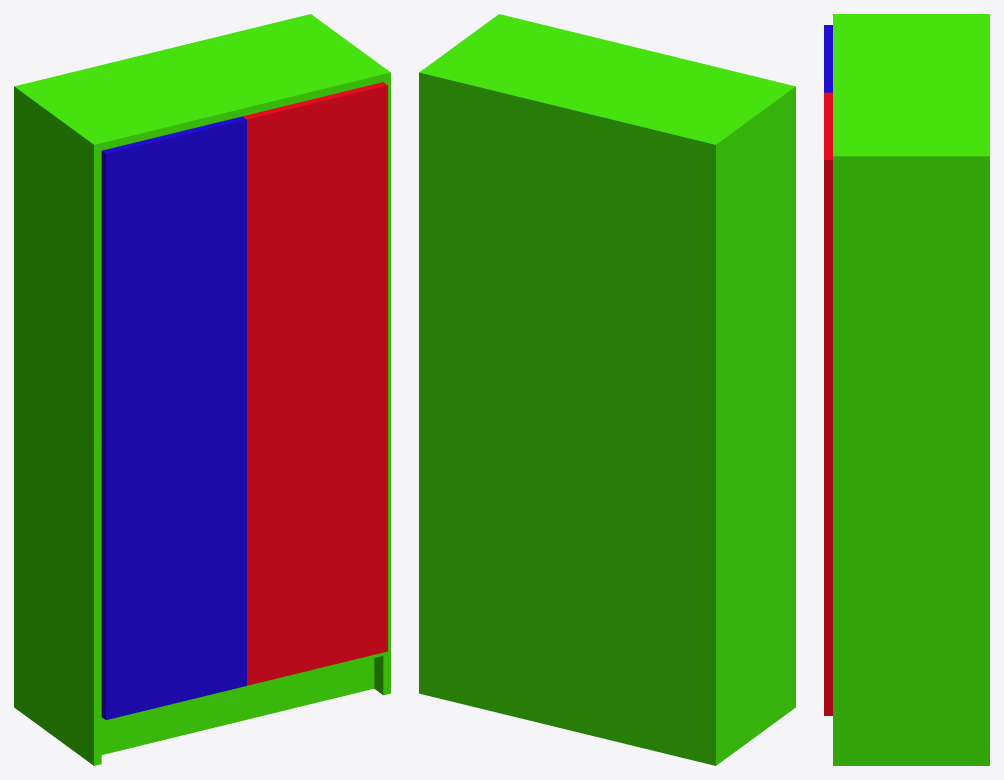
File: kleppstad.fbx
3 renders of one model, left to right at view 1: azimuth 30°, elevation 25°; view 2: azimuth 150°, elevation 25°; view 3: azimuth 270°, elevation 25°, orthographic.
Visible parts, largest first — view 1: Closet, DoorL, DooR; view 2: Closet; view 3: Closet, DooR, DoorL.
Boxes of the visible parts, <box> form: Closet: <box>14,14,390,765</box>; DoorL: <box>101,116,246,719</box>; DooR: <box>243,82,387,685</box>; Closet: <box>419,14,795,765</box>; Closet: <box>833,14,989,765</box>; DooR: <box>824,92,832,715</box>; DoorL: <box>824,25,832,92</box>.
Bounding box in the file's own units: 150 × 300 × 73.92.
